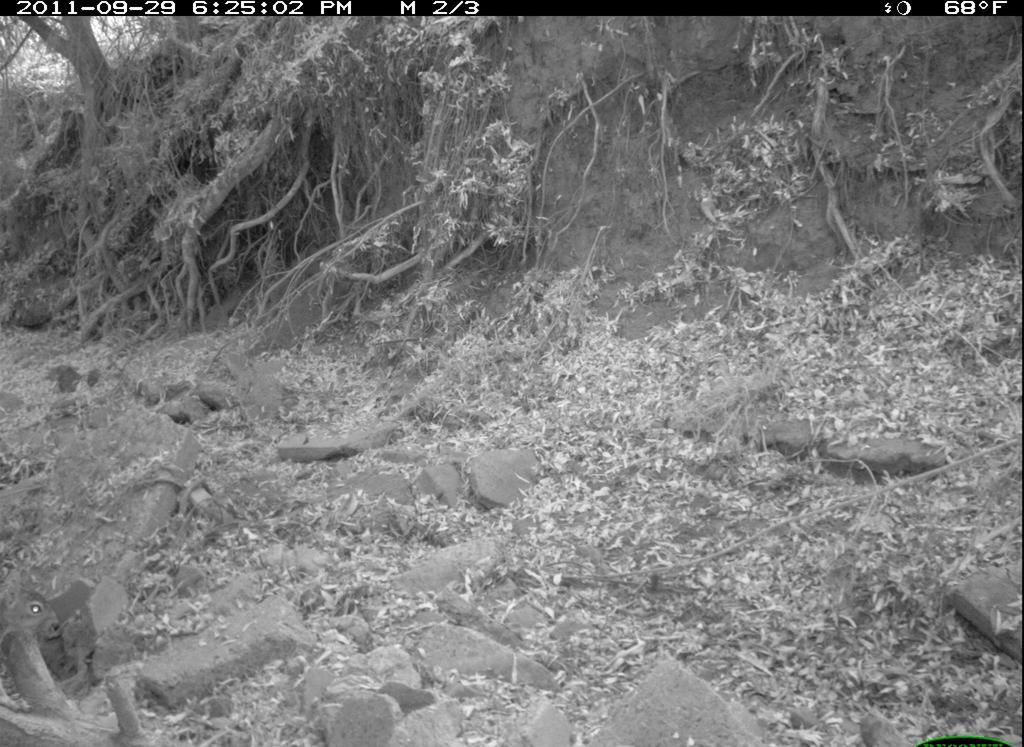squirrel: (1, 559, 98, 654)
